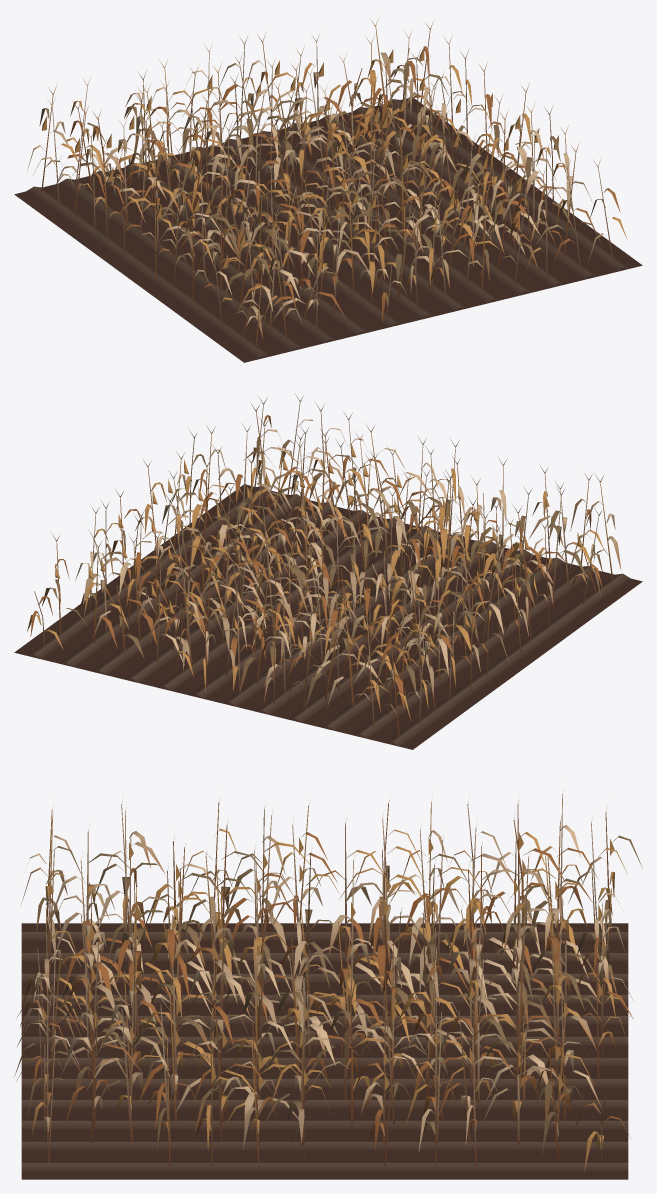
The picture shows the model from 3 angles, top to bottom: view 1: azimuth 30°, elevation 25°; view 2: azimuth 150°, elevation 25°; view 3: azimuth 270°, elevation 25°; orthographic projection. The views are drawn at different scales.
Parts seen in each view (by area): view 1: body; view 2: body; view 3: body.
Part boxes in pixels (x1,y1,x2,y2): body: (14, 19, 642, 362); body: (14, 394, 642, 749); body: (14, 791, 642, 1179).
Bounding box in the file's own units: 10.27 × 2.79 × 10.37.
